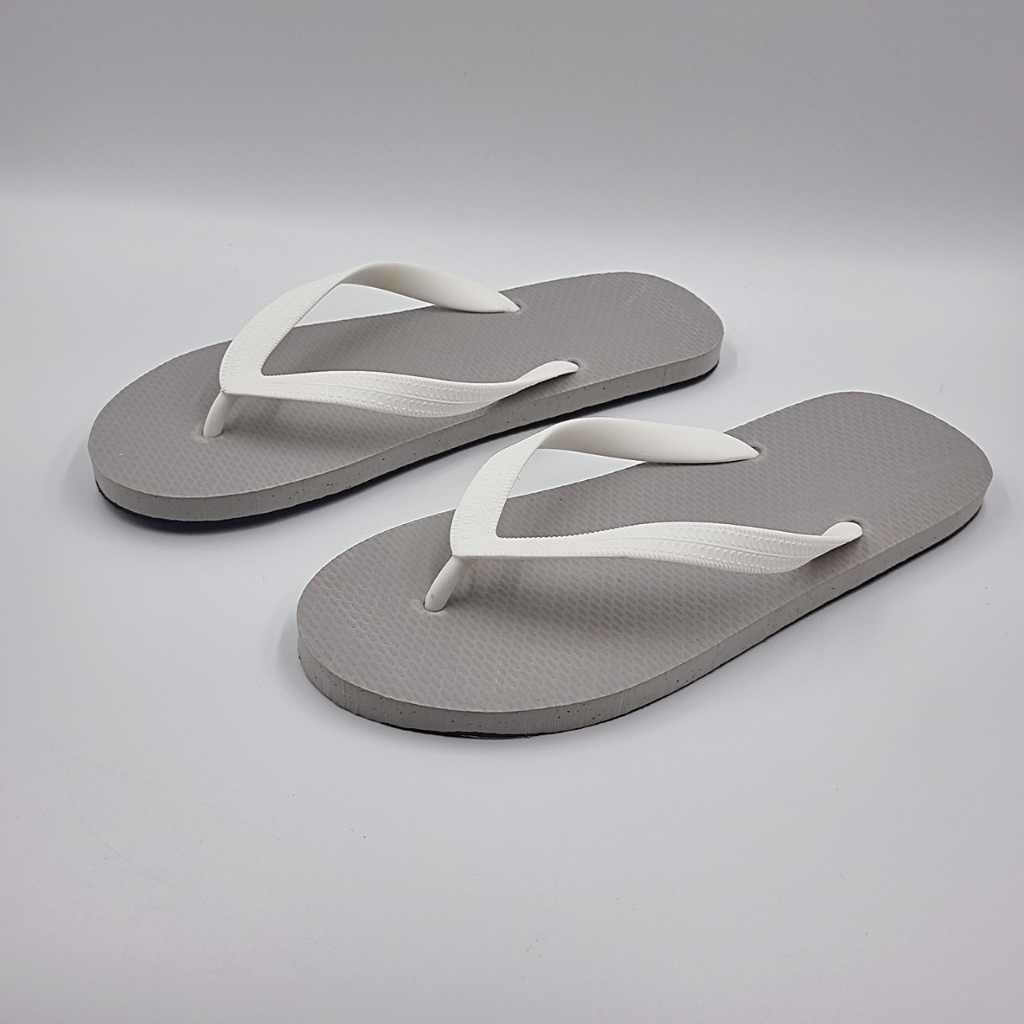flip_flops: (297, 391, 996, 742), (88, 262, 727, 530)
